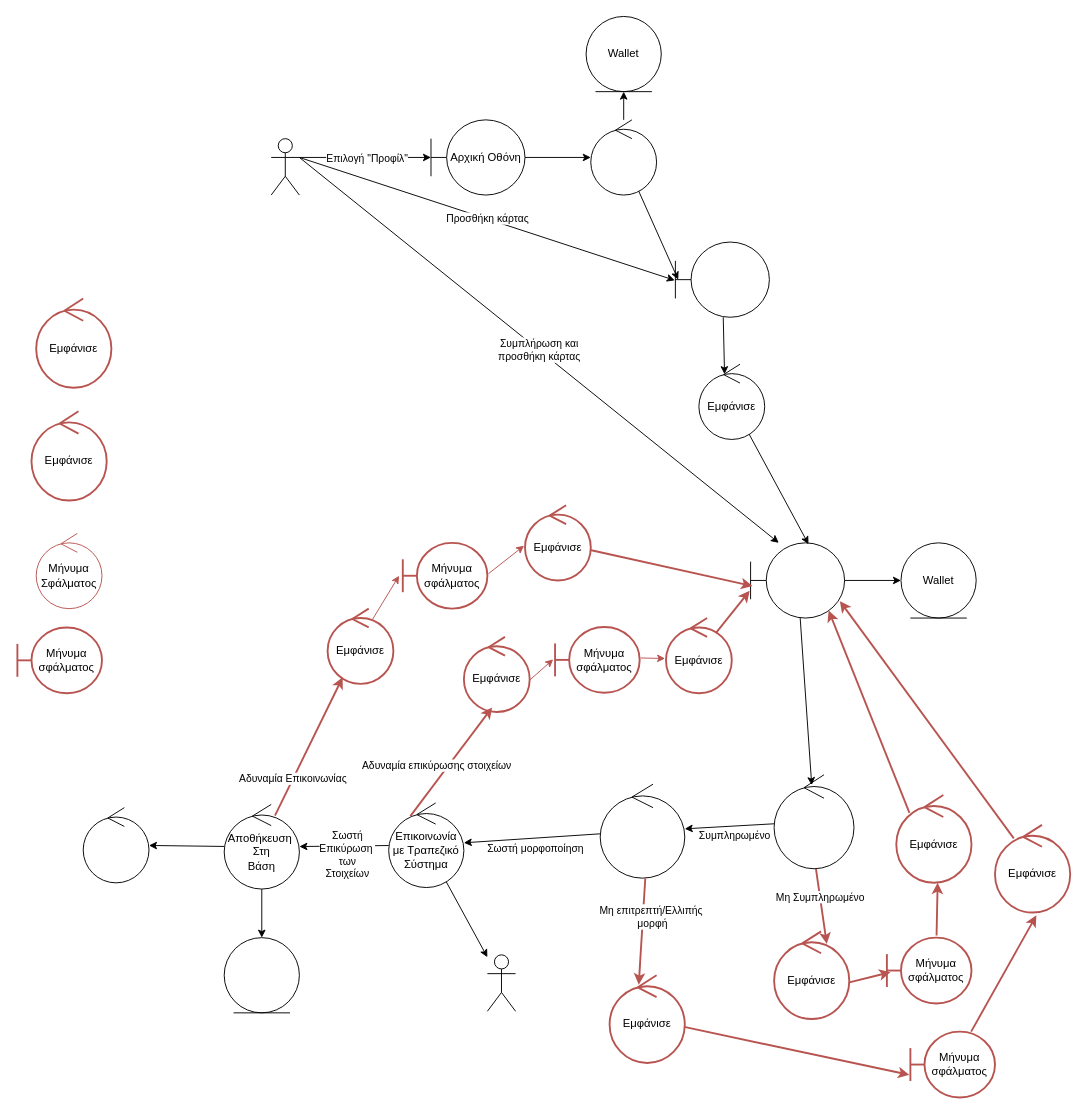
The diagram is 1087 pixels wide and 1115 high, and some of its shapes have lost their labels. Each missing label, with the centre of its shape:
"Customer" belongs at point 284,166.
"Έλεγχος Συμπλήρωσης των πεδίων" belongs at point 813,821.
"Έλεγχος Σωστής μορφοποίησης" belongs at point 642,830.
"Βάση Δεδομένων" belongs at point 261,975.
"Εμφάνιση" belongs at point 623,157.
"Εμφάνιση Μηνύματος Επιτυχίας" belongs at point 115,845.
"Προφίλ" belongs at point 721,279.
"Τράπεζα" belongs at point 501,982.
"Φόρμα στοιχείων κάρτας" belongs at point 797,580.
